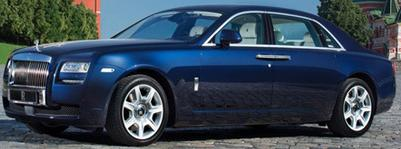front_view: (0, 53, 131, 137)
headlight: (52, 55, 97, 89)
side_glass: (209, 7, 360, 58)
